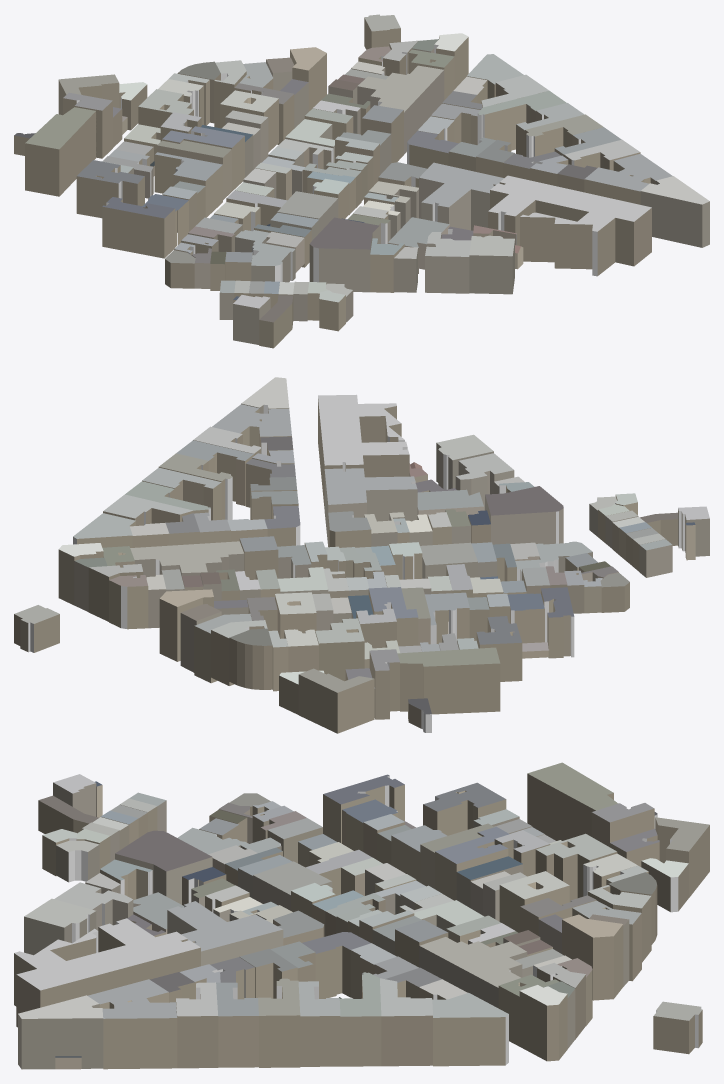
The picture shows the model from 3 angles, top to bottom: view 1: azimuth 30°, elevation 25°; view 2: azimuth 150°, elevation 25°; view 3: azimuth 270°, elevation 25°; orthographic projection. The views are drawn at different scales.
Visible parts, largest first — view 1: tuile; view 2: tuile; view 3: tuile.
Boxes of the visible parts, x1,y1,x2,y2 form: tuile: [14, 14, 709, 348]; tuile: [14, 377, 709, 733]; tuile: [14, 762, 709, 1069].
Bounding box in the file's own units: 232 × 29.43 × 264.
